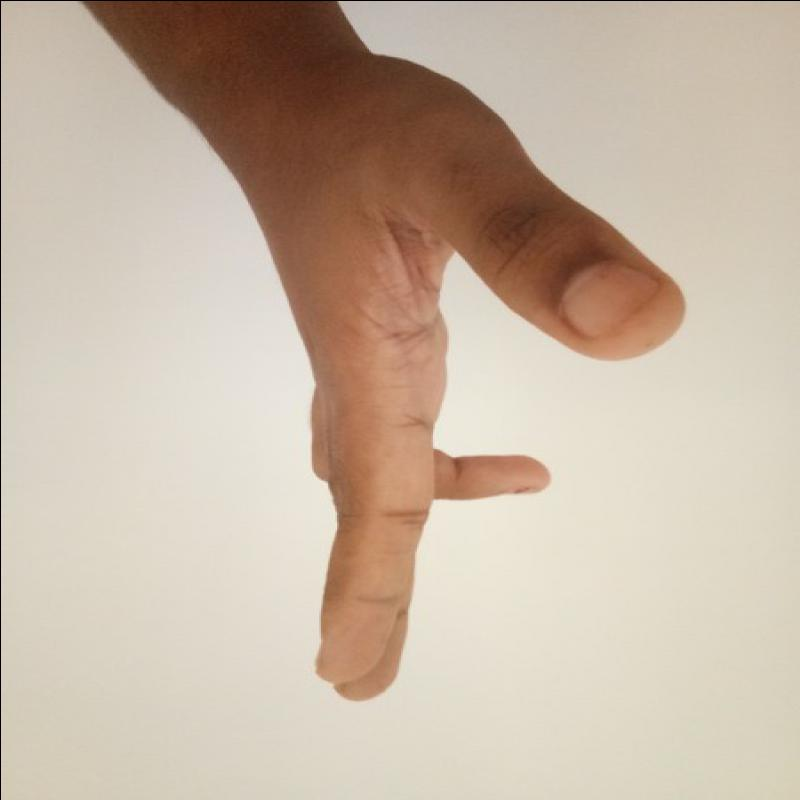Pathaaka: (252, 63, 695, 734)
